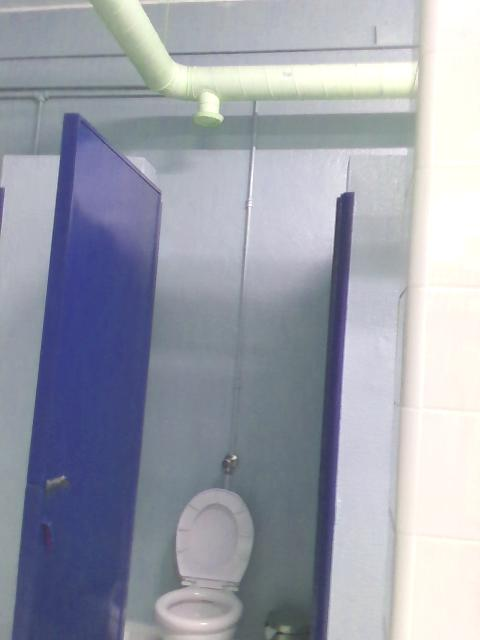open_door: (115, 188, 360, 639)
